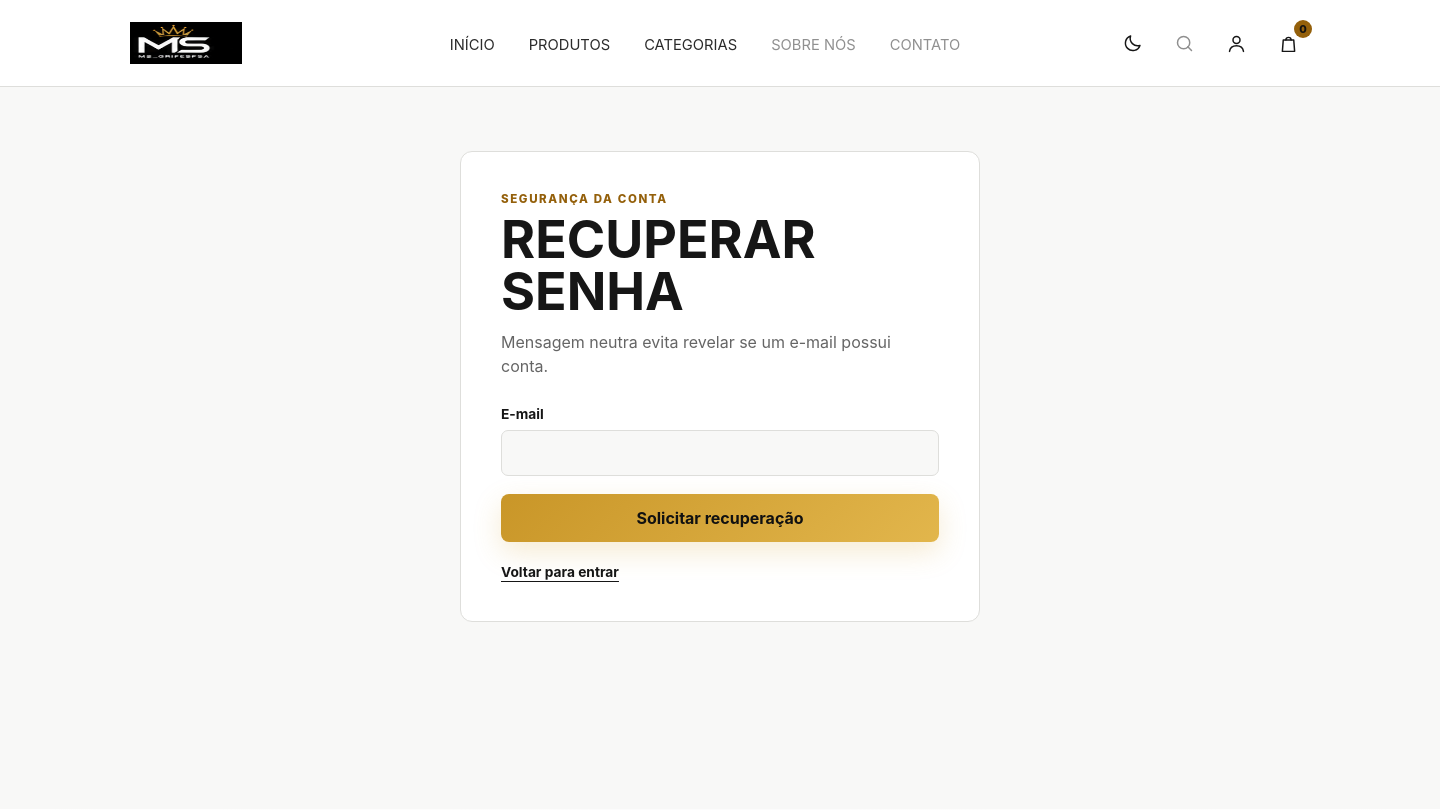
Test: jornada demonstrativa de conta › informa recuperação sem revelar existência de conta
This screenshot has width=1440, height=810.
Type "qualquer@exemplo.com" into the field labelled "E-mail" at (720, 453), box [501,430,939,476]
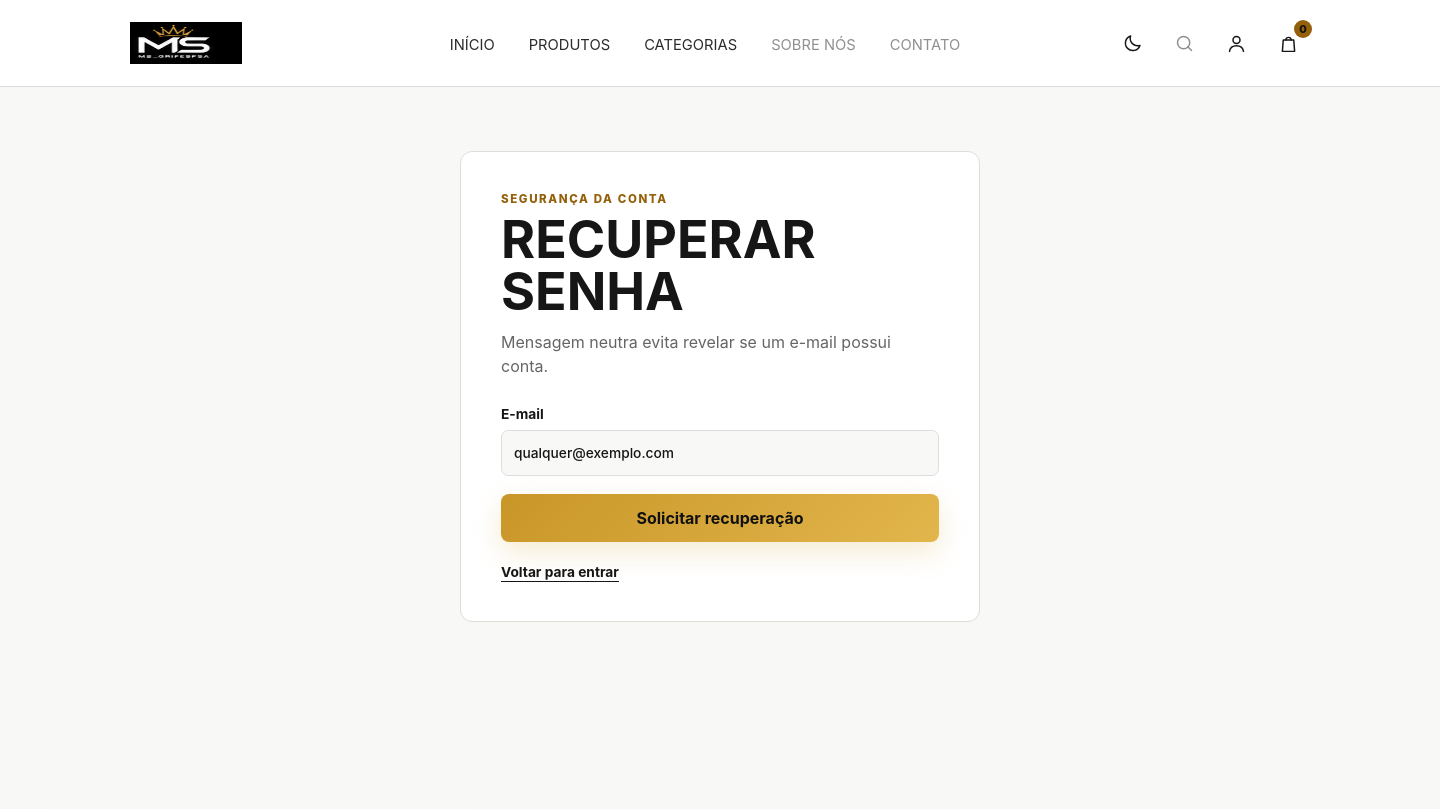
Click the button "Solicitar recuperação" at (720, 518), box [501,494,939,542]
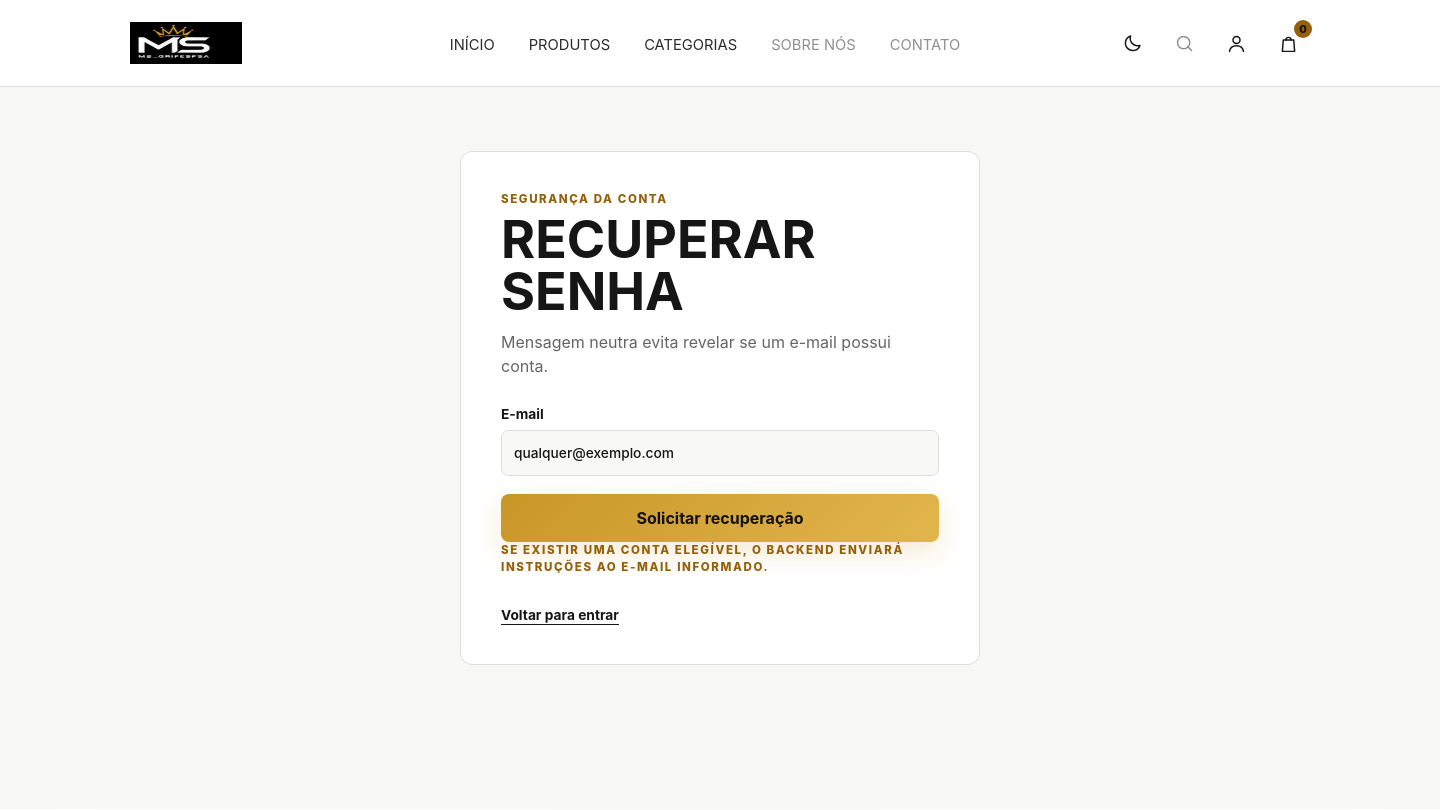
Expected: the message shows "Se existir uma conta elegível", [501,543,904,574]
